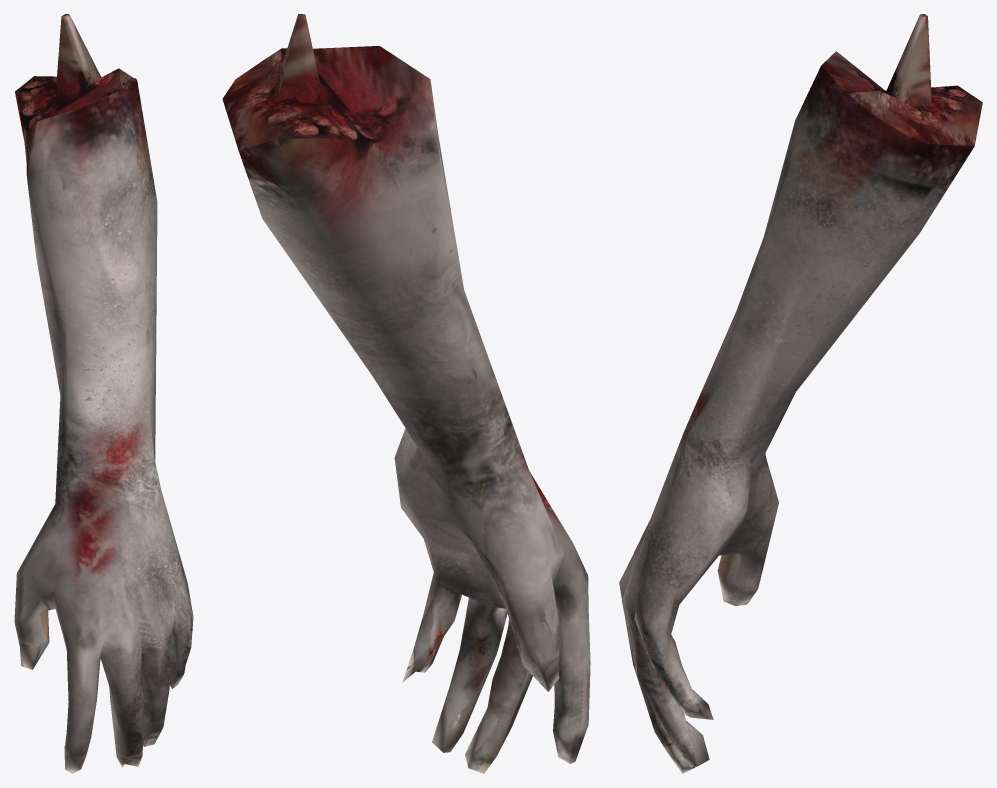
Rendered from severed arm 1111.gltf.
The picture shows the model from 3 angles, left to right: view 1: azimuth 30°, elevation 25°; view 2: azimuth 150°, elevation 25°; view 3: azimuth 270°, elevation 25°; orthographic projection. The views are drawn at different scales.
Parts seen in each view (by area): view 1: severedArm; view 2: severedArm; view 3: severedArm.
Boxes of the visible parts, x1=… form: severedArm: x1=14, y1=14, x2=193, y2=773; severedArm: x1=222, y1=14, x2=590, y2=773; severedArm: x1=619, y1=14, x2=982, y2=773.
Size of the model in its own units: 0.1299 by 0.4416 by 0.1874.
Materials: 1 (1 with a texture image).
